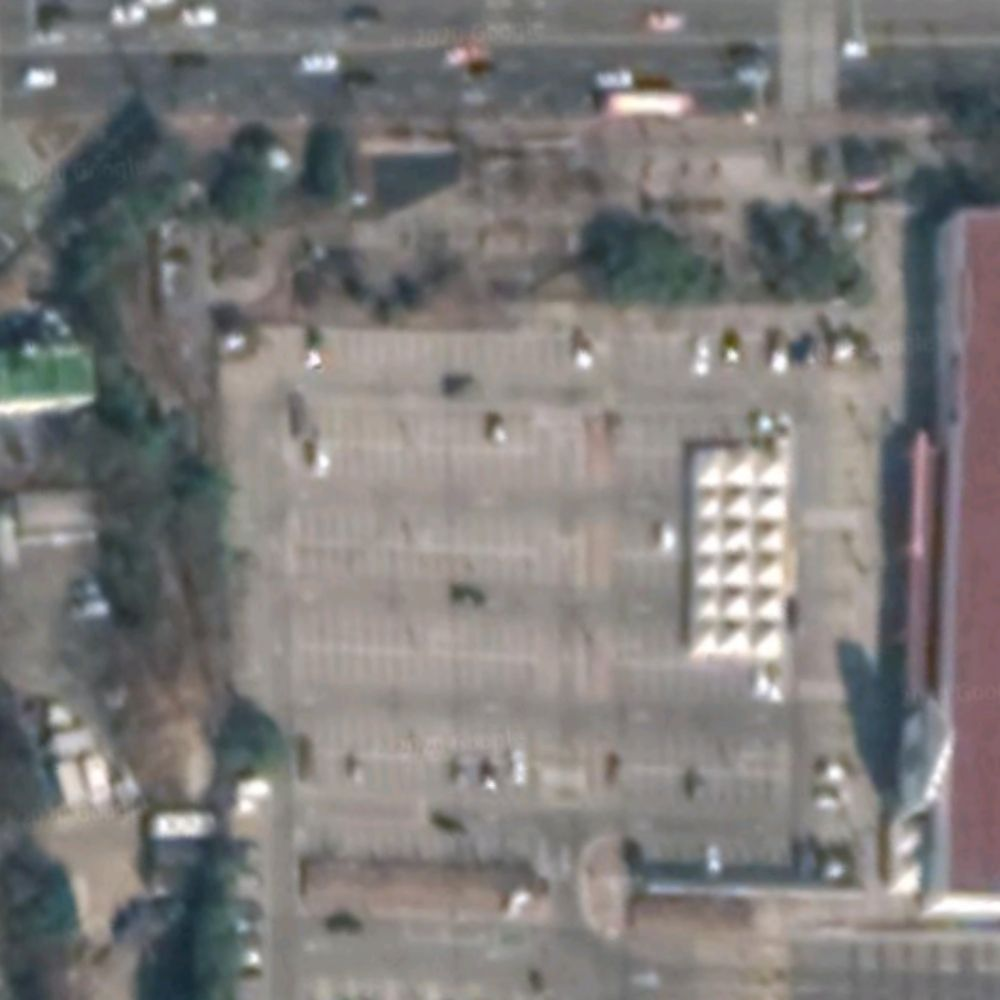parking: (225, 330, 880, 890)
